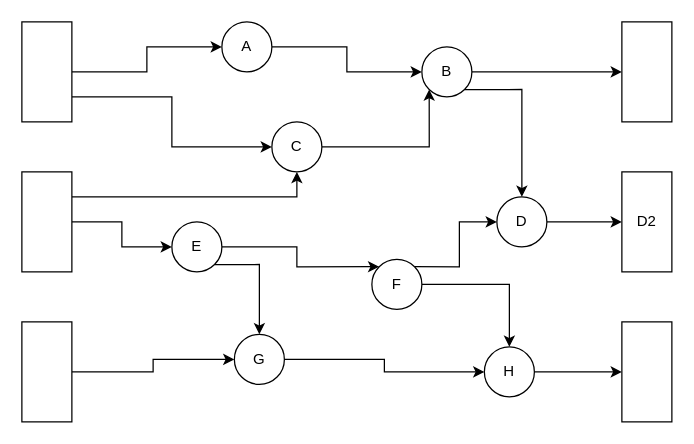
This 694x444 diagram has some shape labels left out. Each missing label, with the box of its shape:
D1: (621, 21, 672, 122)
D3: (621, 321, 672, 422)
Q1: (21, 21, 72, 122)
Q2: (21, 171, 72, 272)
Q3: (21, 321, 72, 422)
